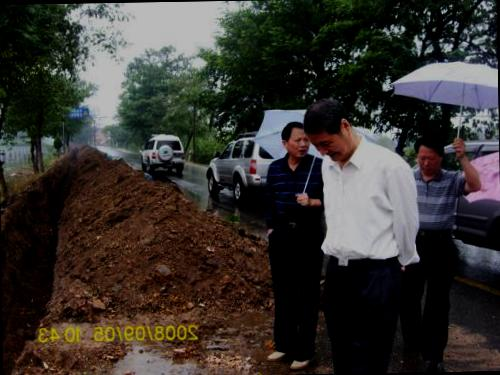no_helmet: (304, 93, 360, 158), (411, 132, 447, 182), (278, 120, 310, 164)
